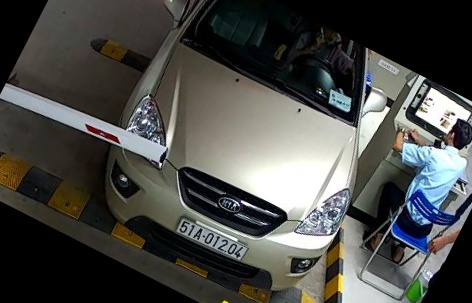plate: (173, 216, 252, 262)
